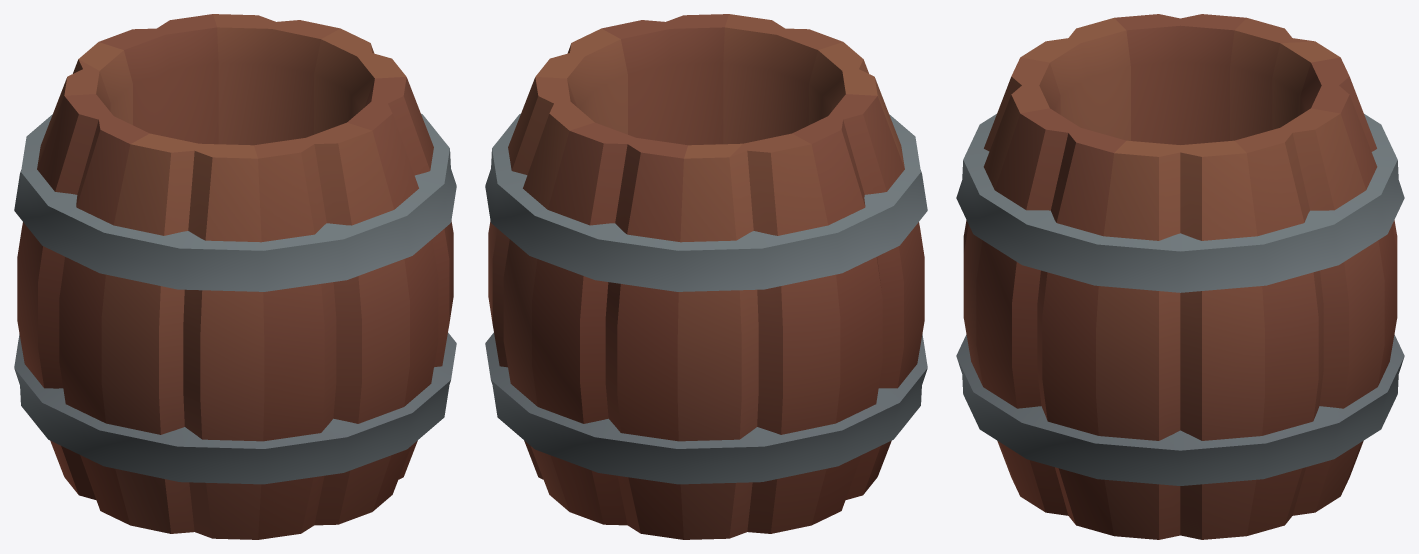
Rendered from barrel.glb.
The picture shows the model from 3 angles, left to right: view 1: azimuth 30°, elevation 25°; view 2: azimuth 150°, elevation 25°; view 3: azimuth 270°, elevation 25°; orthographic projection.
Visible parts, largest first — view 1: Food_Barrel_Empty; view 2: Food_Barrel_Empty; view 3: Food_Barrel_Empty.
Part boxes in pixels (x1,y1,x2,y2): Food_Barrel_Empty: (14, 14, 456, 539); Food_Barrel_Empty: (485, 14, 927, 539); Food_Barrel_Empty: (956, 14, 1404, 539).
Size of the model in its own units: 1.25 by 1.18 by 1.25.
